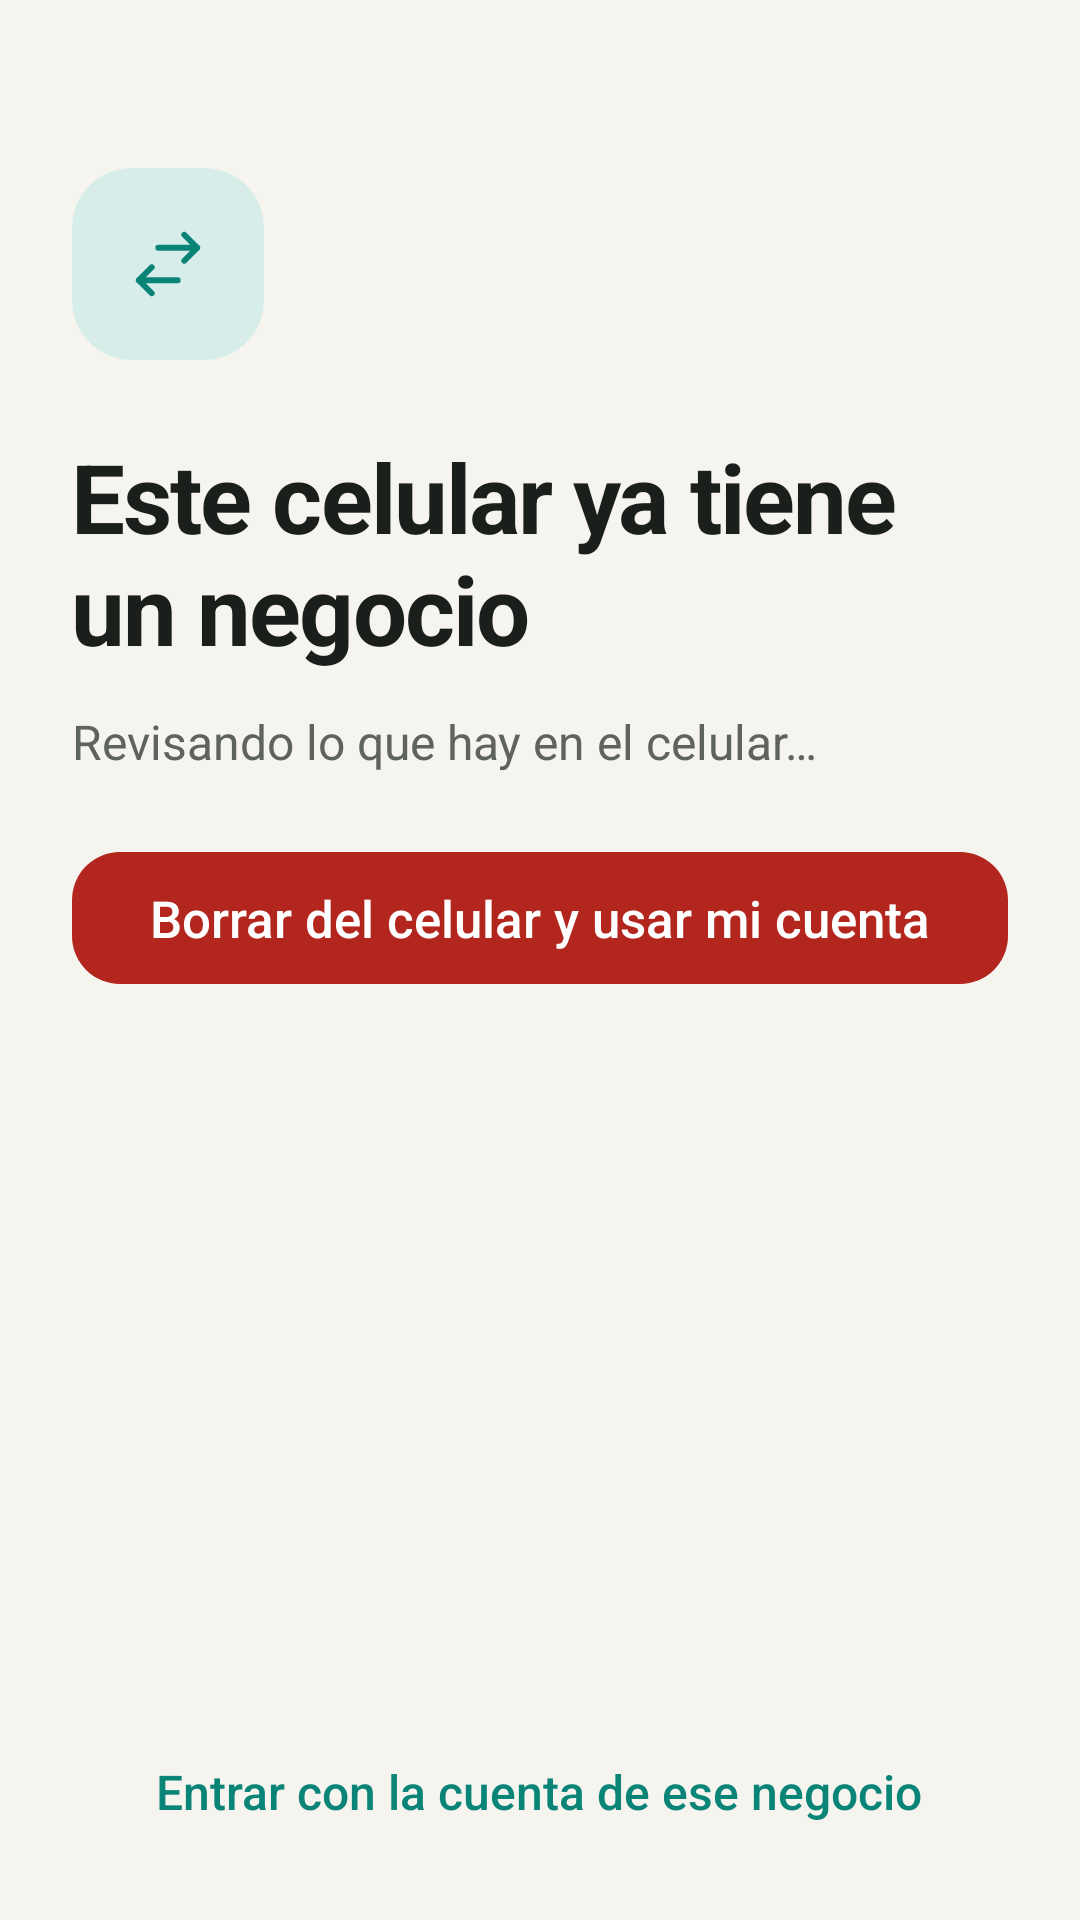

Icons on this 1080x1920 Android screen, each with the point to tap as [x,y]:
cambiar turno: [168,264]
